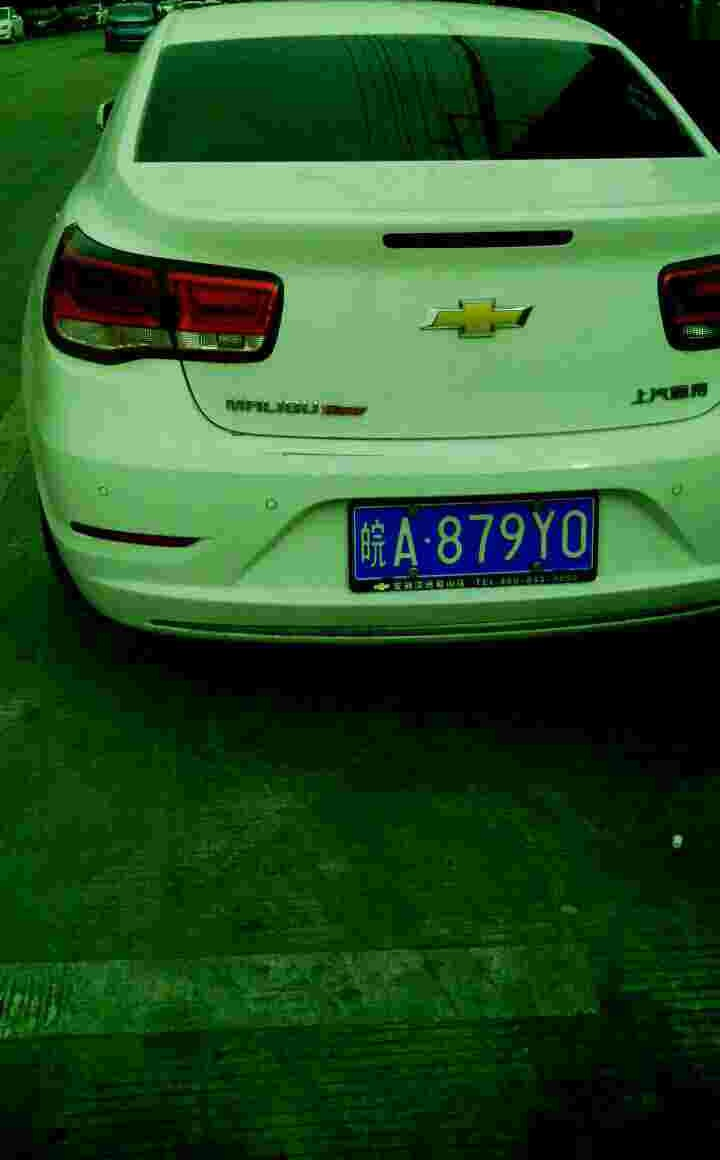license_plate: (352, 502, 595, 589)
